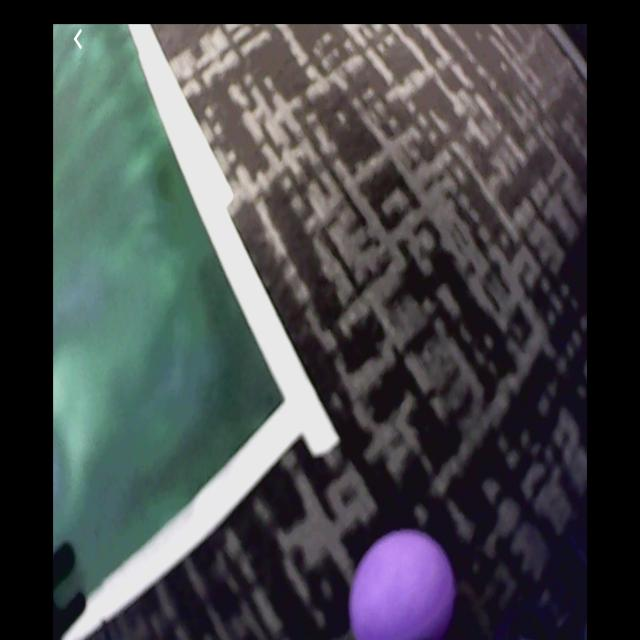ball: (349, 530, 460, 640)
